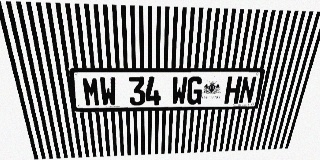3: (129, 77, 145, 106)
4: (145, 77, 161, 105)
G: (186, 76, 203, 105)
H: (224, 76, 242, 104)
M: (81, 77, 101, 106)
N: (238, 76, 257, 104)
W: (99, 77, 117, 106), (171, 76, 188, 105)
